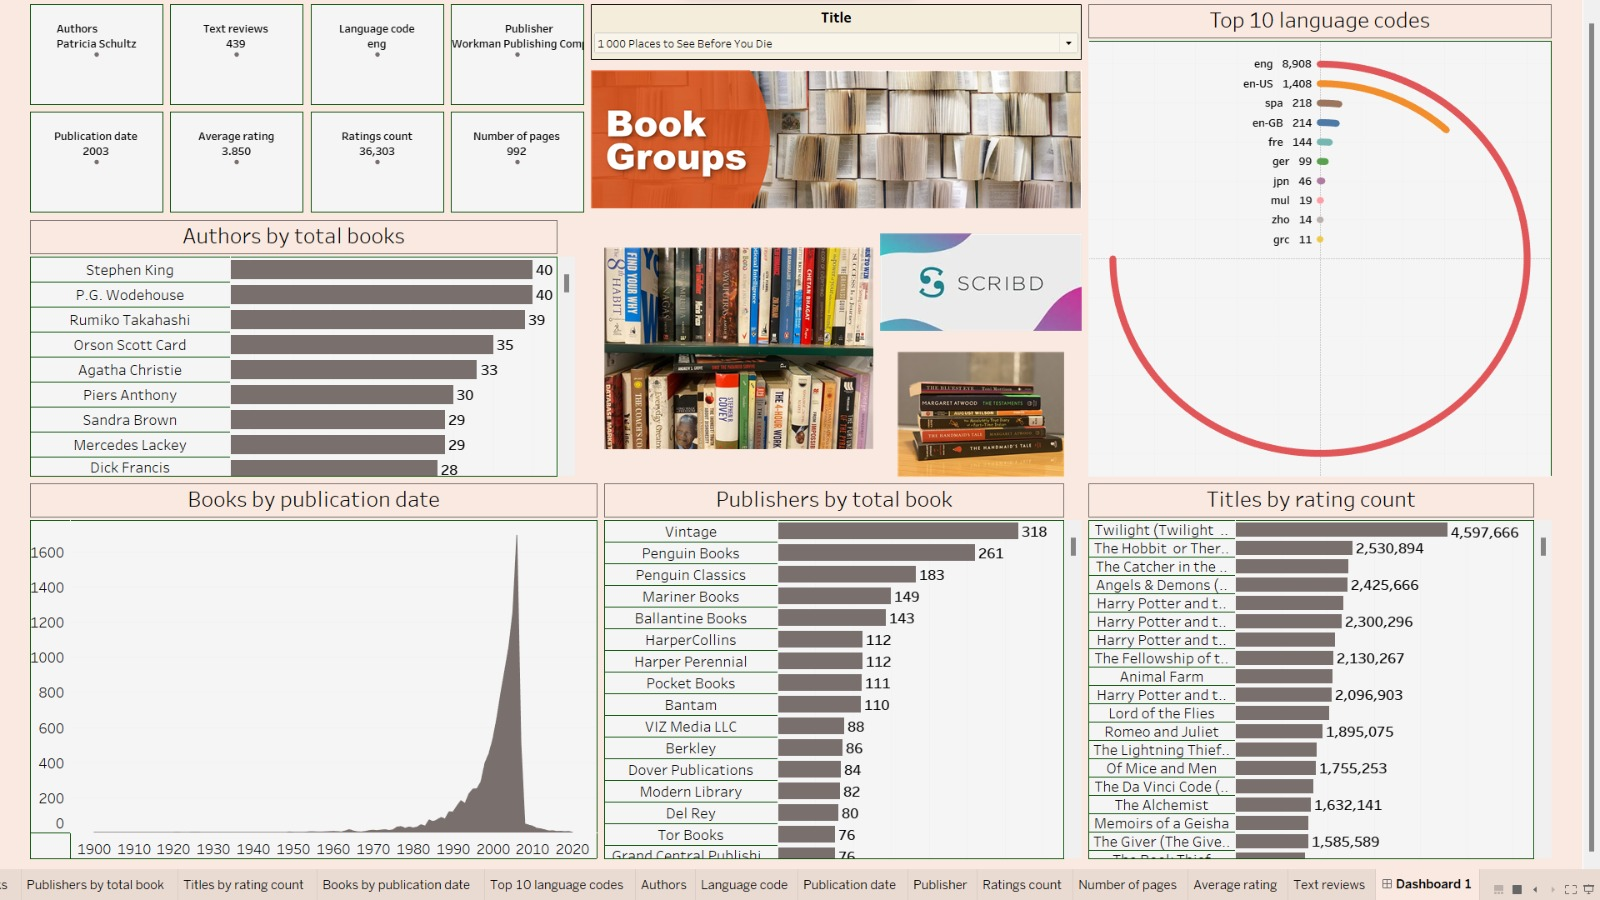

The page's visual inventory and layout, read from the dashboard file:
{"tool":"tableau","page":{"name":"Dashboard 1","canvas":[1850,1050],"ordinal":0},"visuals":[{"type":"worksheet","title":"Authors","mark":"Line","box":[8,8,168.3,129.3]},{"type":"worksheet","title":"Text reviews","mark":"Line","box":[176.3,8,168.4,129.3]},{"type":"worksheet","title":"Language code","mark":"Line","box":[344.7,8,168.4,129.3]},{"type":"worksheet","title":"Publisher","mark":"Line","box":[513.1,8,168.3,129.3]},{"type":"filter","title":"Authors","param":"[federated.051swek0ip1fhh1cv3zk90zbo8j3].[none:title:nk]","box":[681.4,8,596.6,75]},{"type":"worksheet","title":"Top 10 language codes","mark":"Line","box":[1278,8,564,575]},{"type":"image","param":"C:/Users/LENOVO LEGION GAMING/Downloads/Book-Groups-small_0.jpg","box":[681.4,83,596.6,183.5]},{"type":"worksheet","title":"Publication date","mark":"Line","box":[8,137.3,168.3,129.2]},{"type":"worksheet","title":"Average rating","mark":"Line","box":[176.3,137.3,168.4,129.2]},{"type":"worksheet","title":"Ratings count","mark":"Line","box":[344.7,137.3,168.4,129.2]},{"type":"worksheet","title":"Number of pages","mark":"Line","box":[513.1,137.3,168.3,129.2]},{"type":"worksheet","title":"Authors by total books","mark":"Automatic","rows":["authors"],"cols":["bookID"],"box":[8,266.5,689.1,316.5]},{"type":"image","param":"C:/Users/LENOVO LEGION GAMING/Downloads/[number redacted].jpg","box":[697.1,266.5,331.4,316.5]},{"type":"image","param":"C:/Users/LENOVO LEGION GAMING/Downloads/download.jpg","box":[1028.4,266.5,249.6,158.2]},{"type":"image","param":"C:/Users/LENOVO LEGION GAMING/Downloads/download (1).jpg","box":[1028.4,424.7,249.6,158.2]},{"type":"worksheet","title":"Books by publication date","mark":"Area","rows":["bookID"],"cols":["publication_date"],"box":[8,583,689.1,459]},{"type":"worksheet","title":"Publishers by total book","mark":"Bar","rows":["publisher"],"cols":["bookID"],"box":[697.1,583,580.9,459]},{"type":"worksheet","title":"Titles by rating count","mark":"Bar","rows":["title"],"cols":["Calculation_906630959253053442"],"box":[1278,583,564,459]}]}

Visuals, with their boxes on the page's 1850x1050 design canvas (x1, y1, x2, y2). These are canvas units, not pixel positions in the 1600x900 screenshot, which may show the page scaled, cropped or inside an application window:
"Authors" worksheet (Line marks): {"left": 8, "top": 8, "right": 176, "bottom": 137}
"Text reviews" worksheet (Line marks): {"left": 176, "top": 8, "right": 345, "bottom": 137}
"Language code" worksheet (Line marks): {"left": 345, "top": 8, "right": 513, "bottom": 137}
"Publisher" worksheet (Line marks): {"left": 513, "top": 8, "right": 681, "bottom": 137}
"Authors" filter: {"left": 681, "top": 8, "right": 1278, "bottom": 83}
"Top 10 language codes" worksheet (Line marks): {"left": 1278, "top": 8, "right": 1842, "bottom": 583}
image: {"left": 681, "top": 83, "right": 1278, "bottom": 266}
"Publication date" worksheet (Line marks): {"left": 8, "top": 137, "right": 176, "bottom": 266}
"Average rating" worksheet (Line marks): {"left": 176, "top": 137, "right": 345, "bottom": 266}
"Ratings count" worksheet (Line marks): {"left": 345, "top": 137, "right": 513, "bottom": 266}
"Number of pages" worksheet (Line marks): {"left": 513, "top": 137, "right": 681, "bottom": 266}
"Authors by total books" worksheet: {"left": 8, "top": 266, "right": 697, "bottom": 583}
image: {"left": 697, "top": 266, "right": 1028, "bottom": 583}
image: {"left": 1028, "top": 266, "right": 1278, "bottom": 425}
image: {"left": 1028, "top": 425, "right": 1278, "bottom": 583}
"Books by publication date" worksheet (Area marks): {"left": 8, "top": 583, "right": 697, "bottom": 1042}
"Publishers by total book" worksheet (Bar marks): {"left": 697, "top": 583, "right": 1278, "bottom": 1042}
"Titles by rating count" worksheet (Bar marks): {"left": 1278, "top": 583, "right": 1842, "bottom": 1042}
